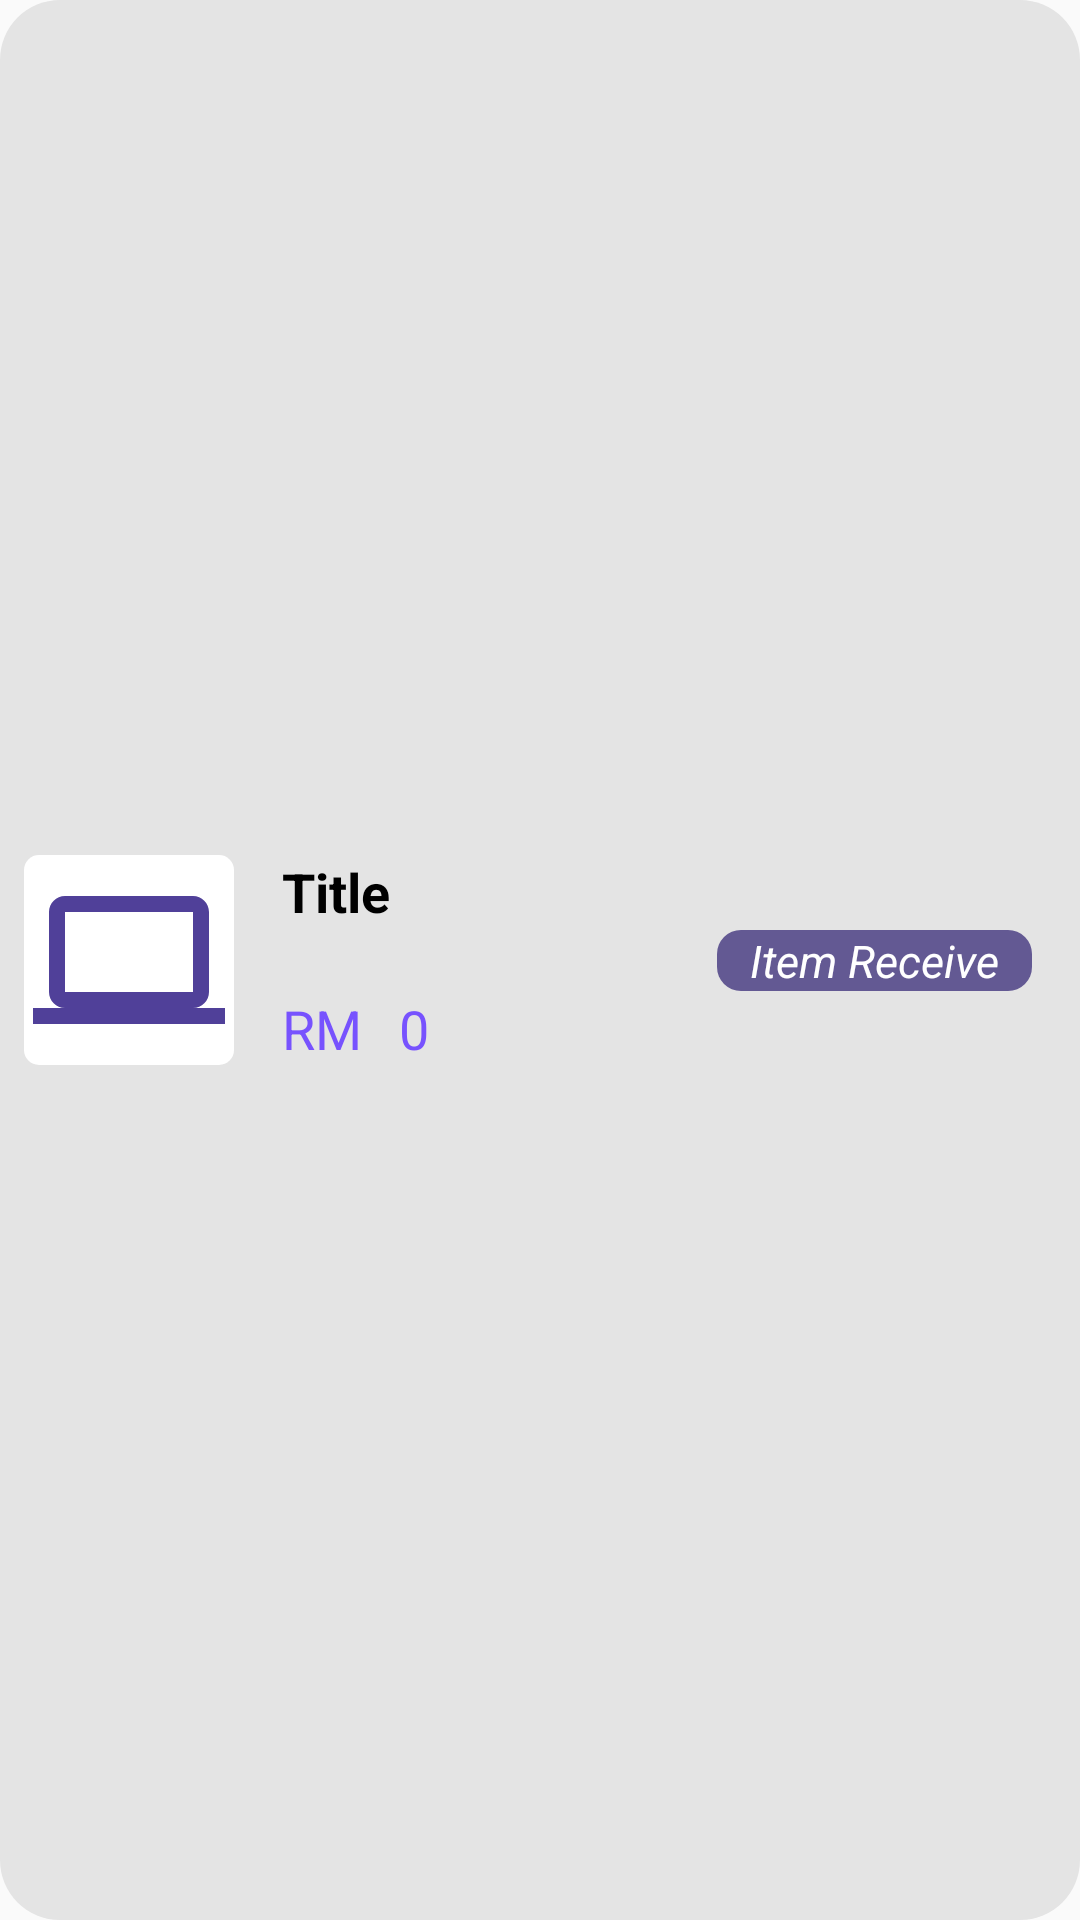

Icons on this 1080w x 1920h Android screen, each with the point to tap as (x,y):
product laptop: (129,960)
